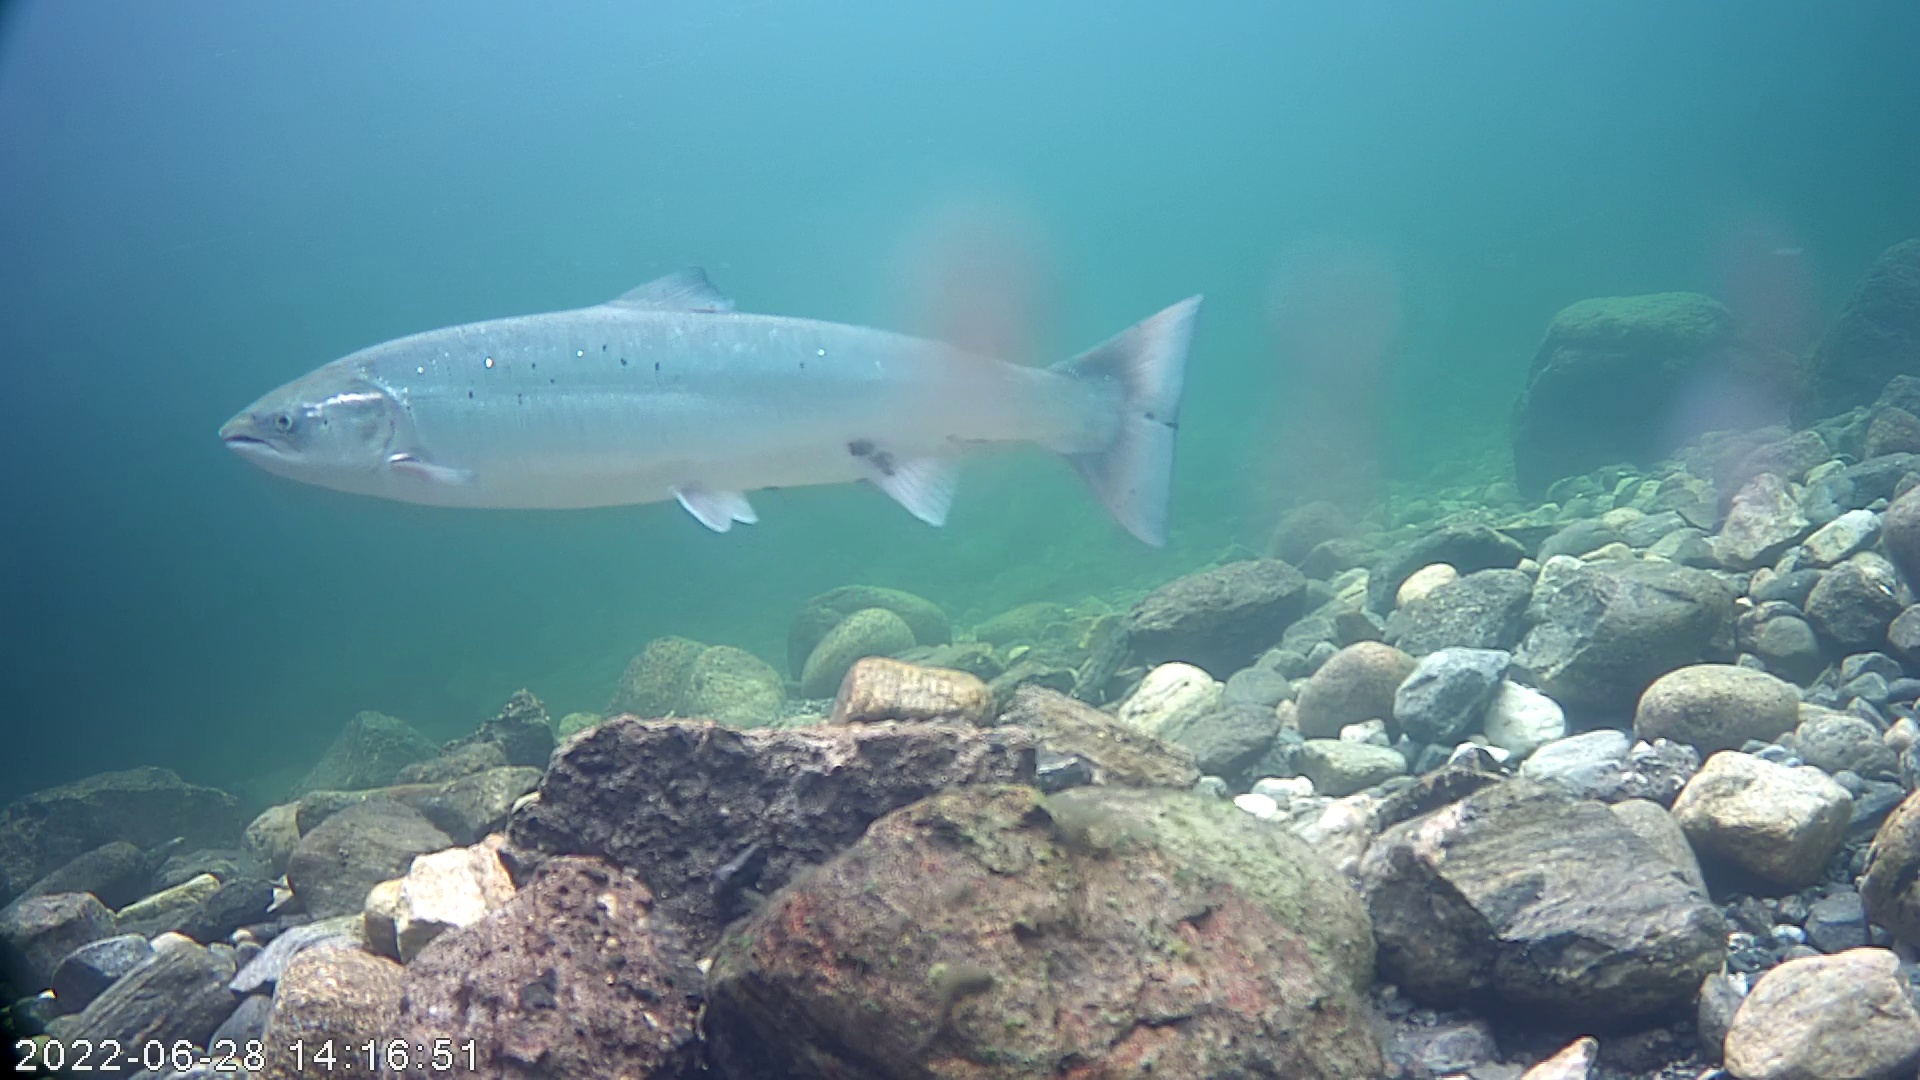salmon: (204, 156, 1204, 603)
